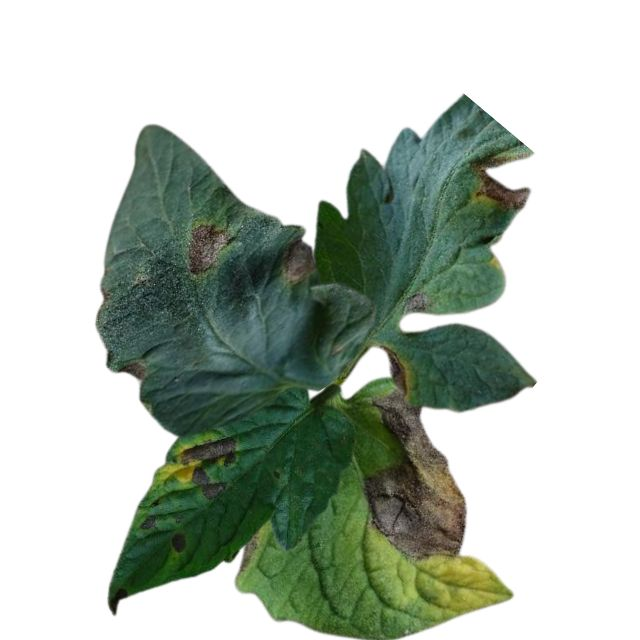Early_blight: (373, 390, 467, 560), (179, 436, 239, 500), (468, 150, 534, 208), (184, 223, 231, 276), (278, 238, 316, 283), (382, 346, 409, 395), (240, 532, 257, 576), (117, 360, 148, 379), (108, 586, 127, 616), (168, 531, 188, 552), (405, 293, 428, 311), (138, 513, 154, 528)
